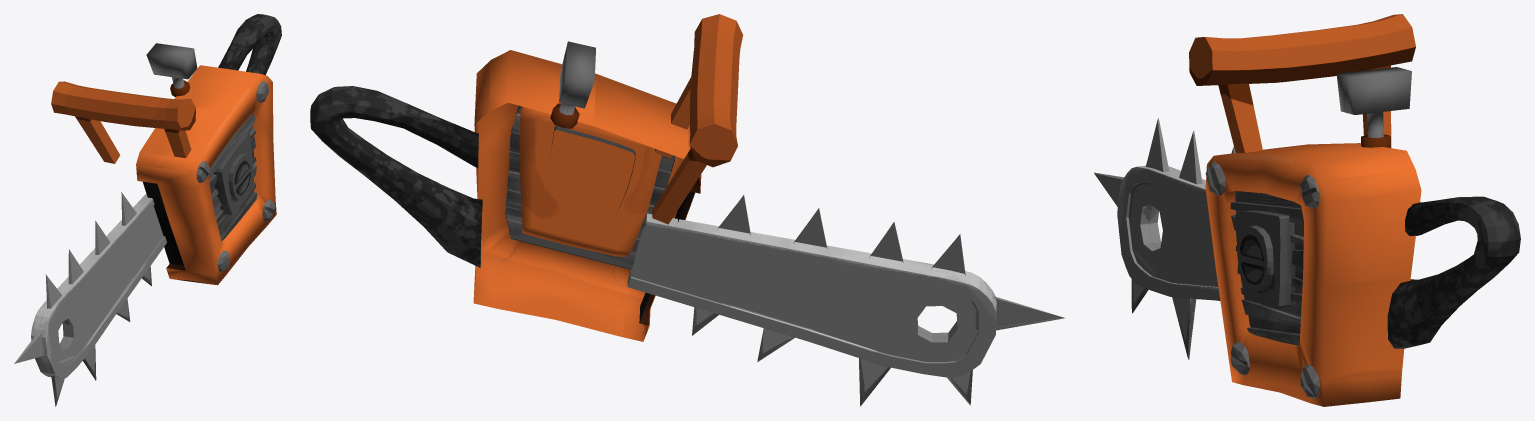
File: MotosierraEAAL.glb
The picture shows the model from 3 angles, left to right: view 1: azimuth 30°, elevation 25°; view 2: azimuth 150°, elevation 25°; view 3: azimuth 270°, elevation 25°; orthographic projection. The views are drawn at different scales.
Parts seen in each view (by area): view 1: Motosierra; view 2: Motosierra; view 3: Motosierra.
Part boxes in pixels (x1,y1,x2,y2): Motosierra: [14, 14, 281, 406]; Motosierra: [310, 14, 1065, 406]; Motosierra: [1094, 14, 1520, 406].
Size of the model in its own units: 3.43 by 2.13 by 2.08.
Materials: 10 (9 with a texture image).
